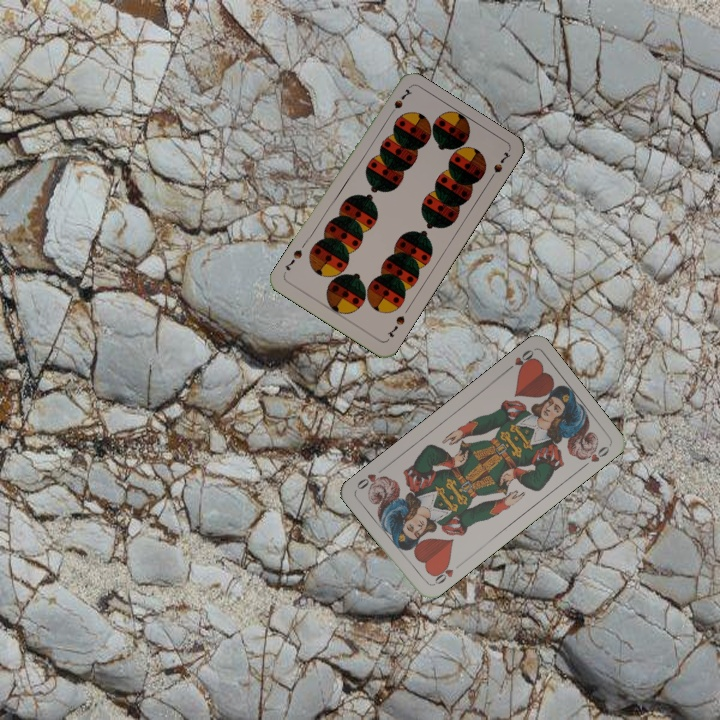HO: (428, 558, 464, 588), (501, 346, 537, 375)
S7: (383, 312, 407, 340), (384, 95, 405, 120)
